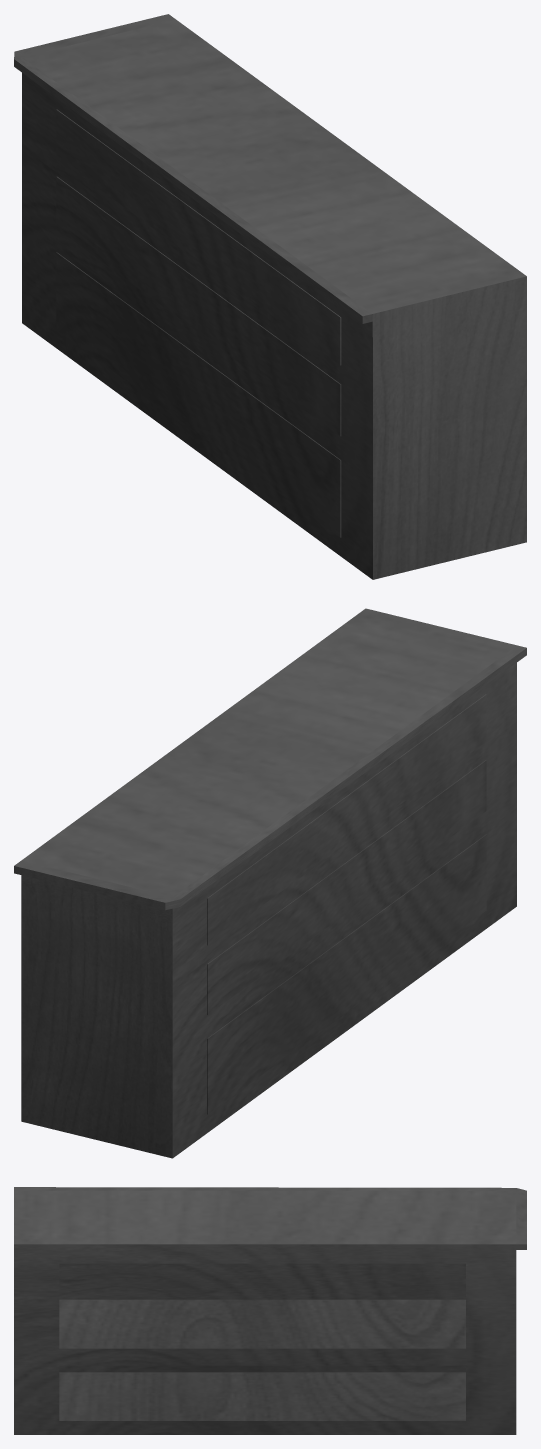
Rendered from ReceptionDesk.fbx.
3 renders of one model, top to bottom at view 1: azimuth 30°, elevation 25°; view 2: azimuth 150°, elevation 25°; view 3: azimuth 270°, elevation 25°, orthographic. The views are drawn at different scales.
Parts seen in each view (by area): view 1: ReceptionDesk; view 2: ReceptionDesk; view 3: ReceptionDesk.
Boxes of the visible parts, x1,y1,x2,y2 form: ReceptionDesk: (14, 14, 526, 579); ReceptionDesk: (14, 608, 526, 1158); ReceptionDesk: (14, 1187, 526, 1434).
Bounding box in the file's own units: 2.34 × 3.62 × 8.85.
